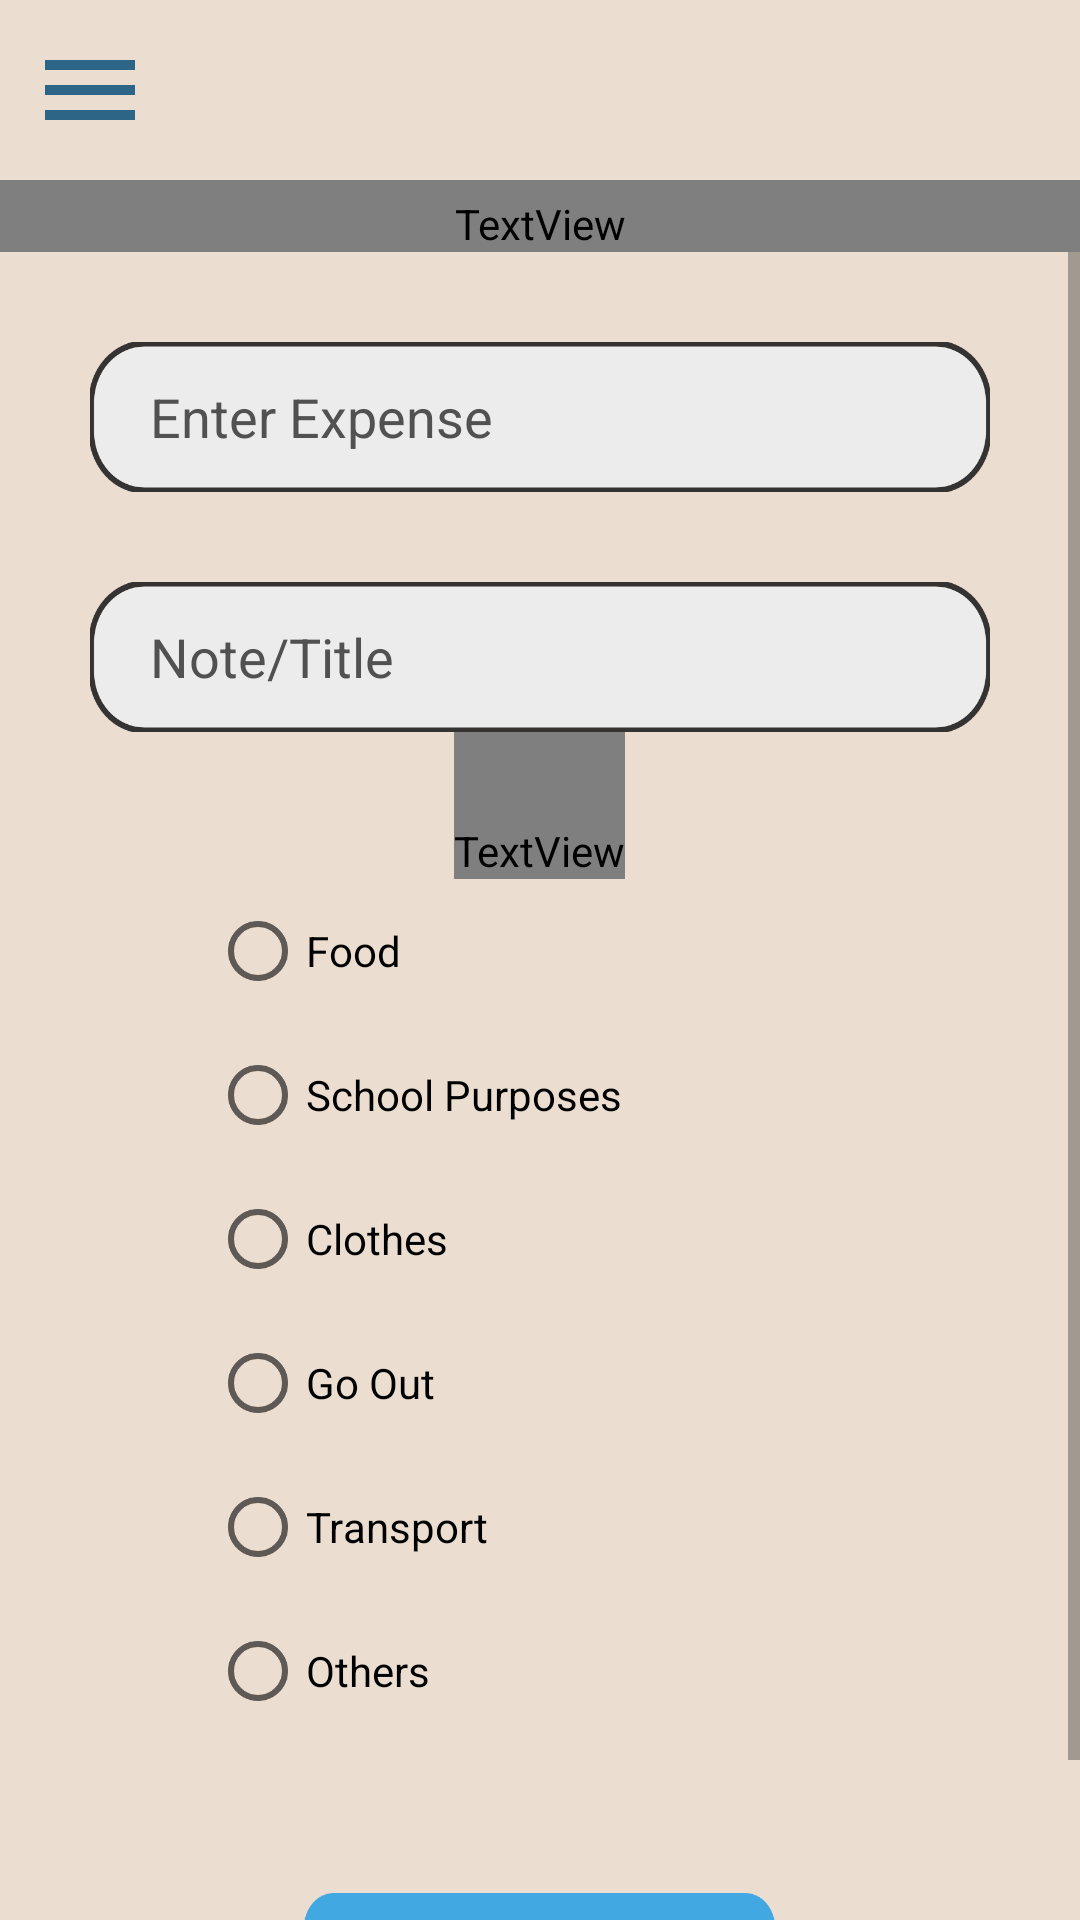

Named icons in this screenshot (1080x1920) and their centers, [x,y]:
menu: [90,90]
